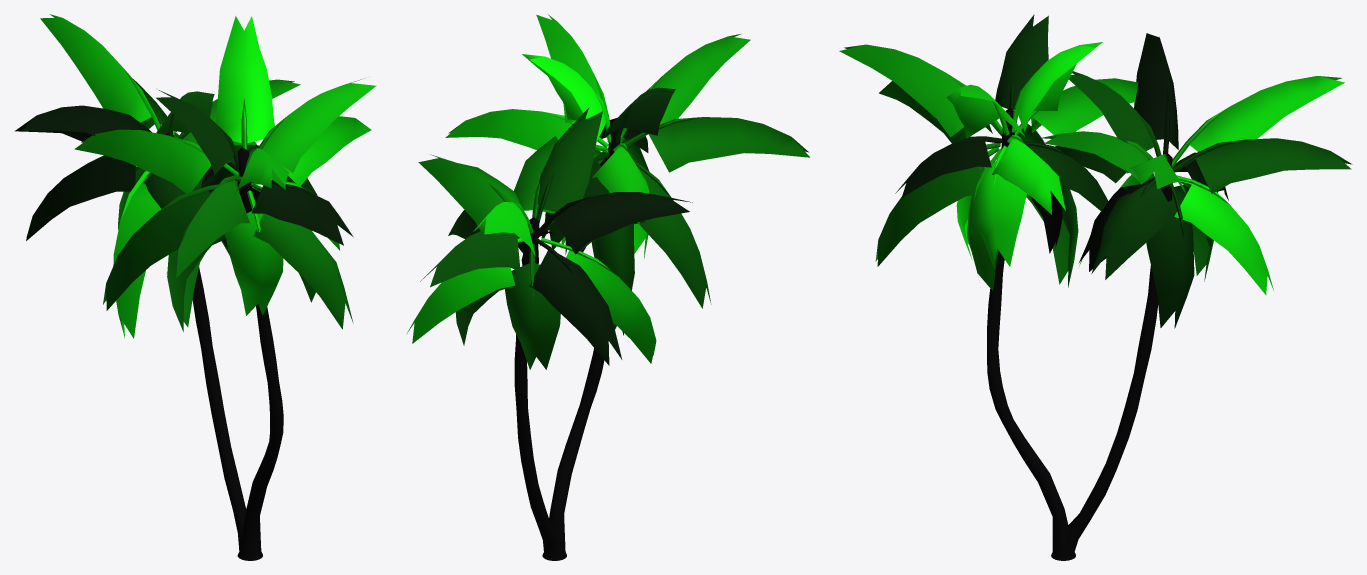
Rendered from M_P10_Tree_17.fbx.
3 views of the same model, side by side, from view 1: azimuth 30°, elevation 25°; view 2: azimuth 150°, elevation 25°; view 3: azimuth 270°, elevation 25° (orthographic). The views are drawn at different scales.
Parts seen in each view (by area): view 1: Palm_2_9; view 2: Palm_2_9; view 3: Palm_2_9.
Boxes of the visible parts, left/top/right/bottom form: Palm_2_9: left=14, top=14, right=376, bottom=560; Palm_2_9: left=406, top=14, right=809, bottom=560; Palm_2_9: left=839, top=14, right=1352, bottom=560.
Size of the model in its own units: 292 by 482 by 435.
